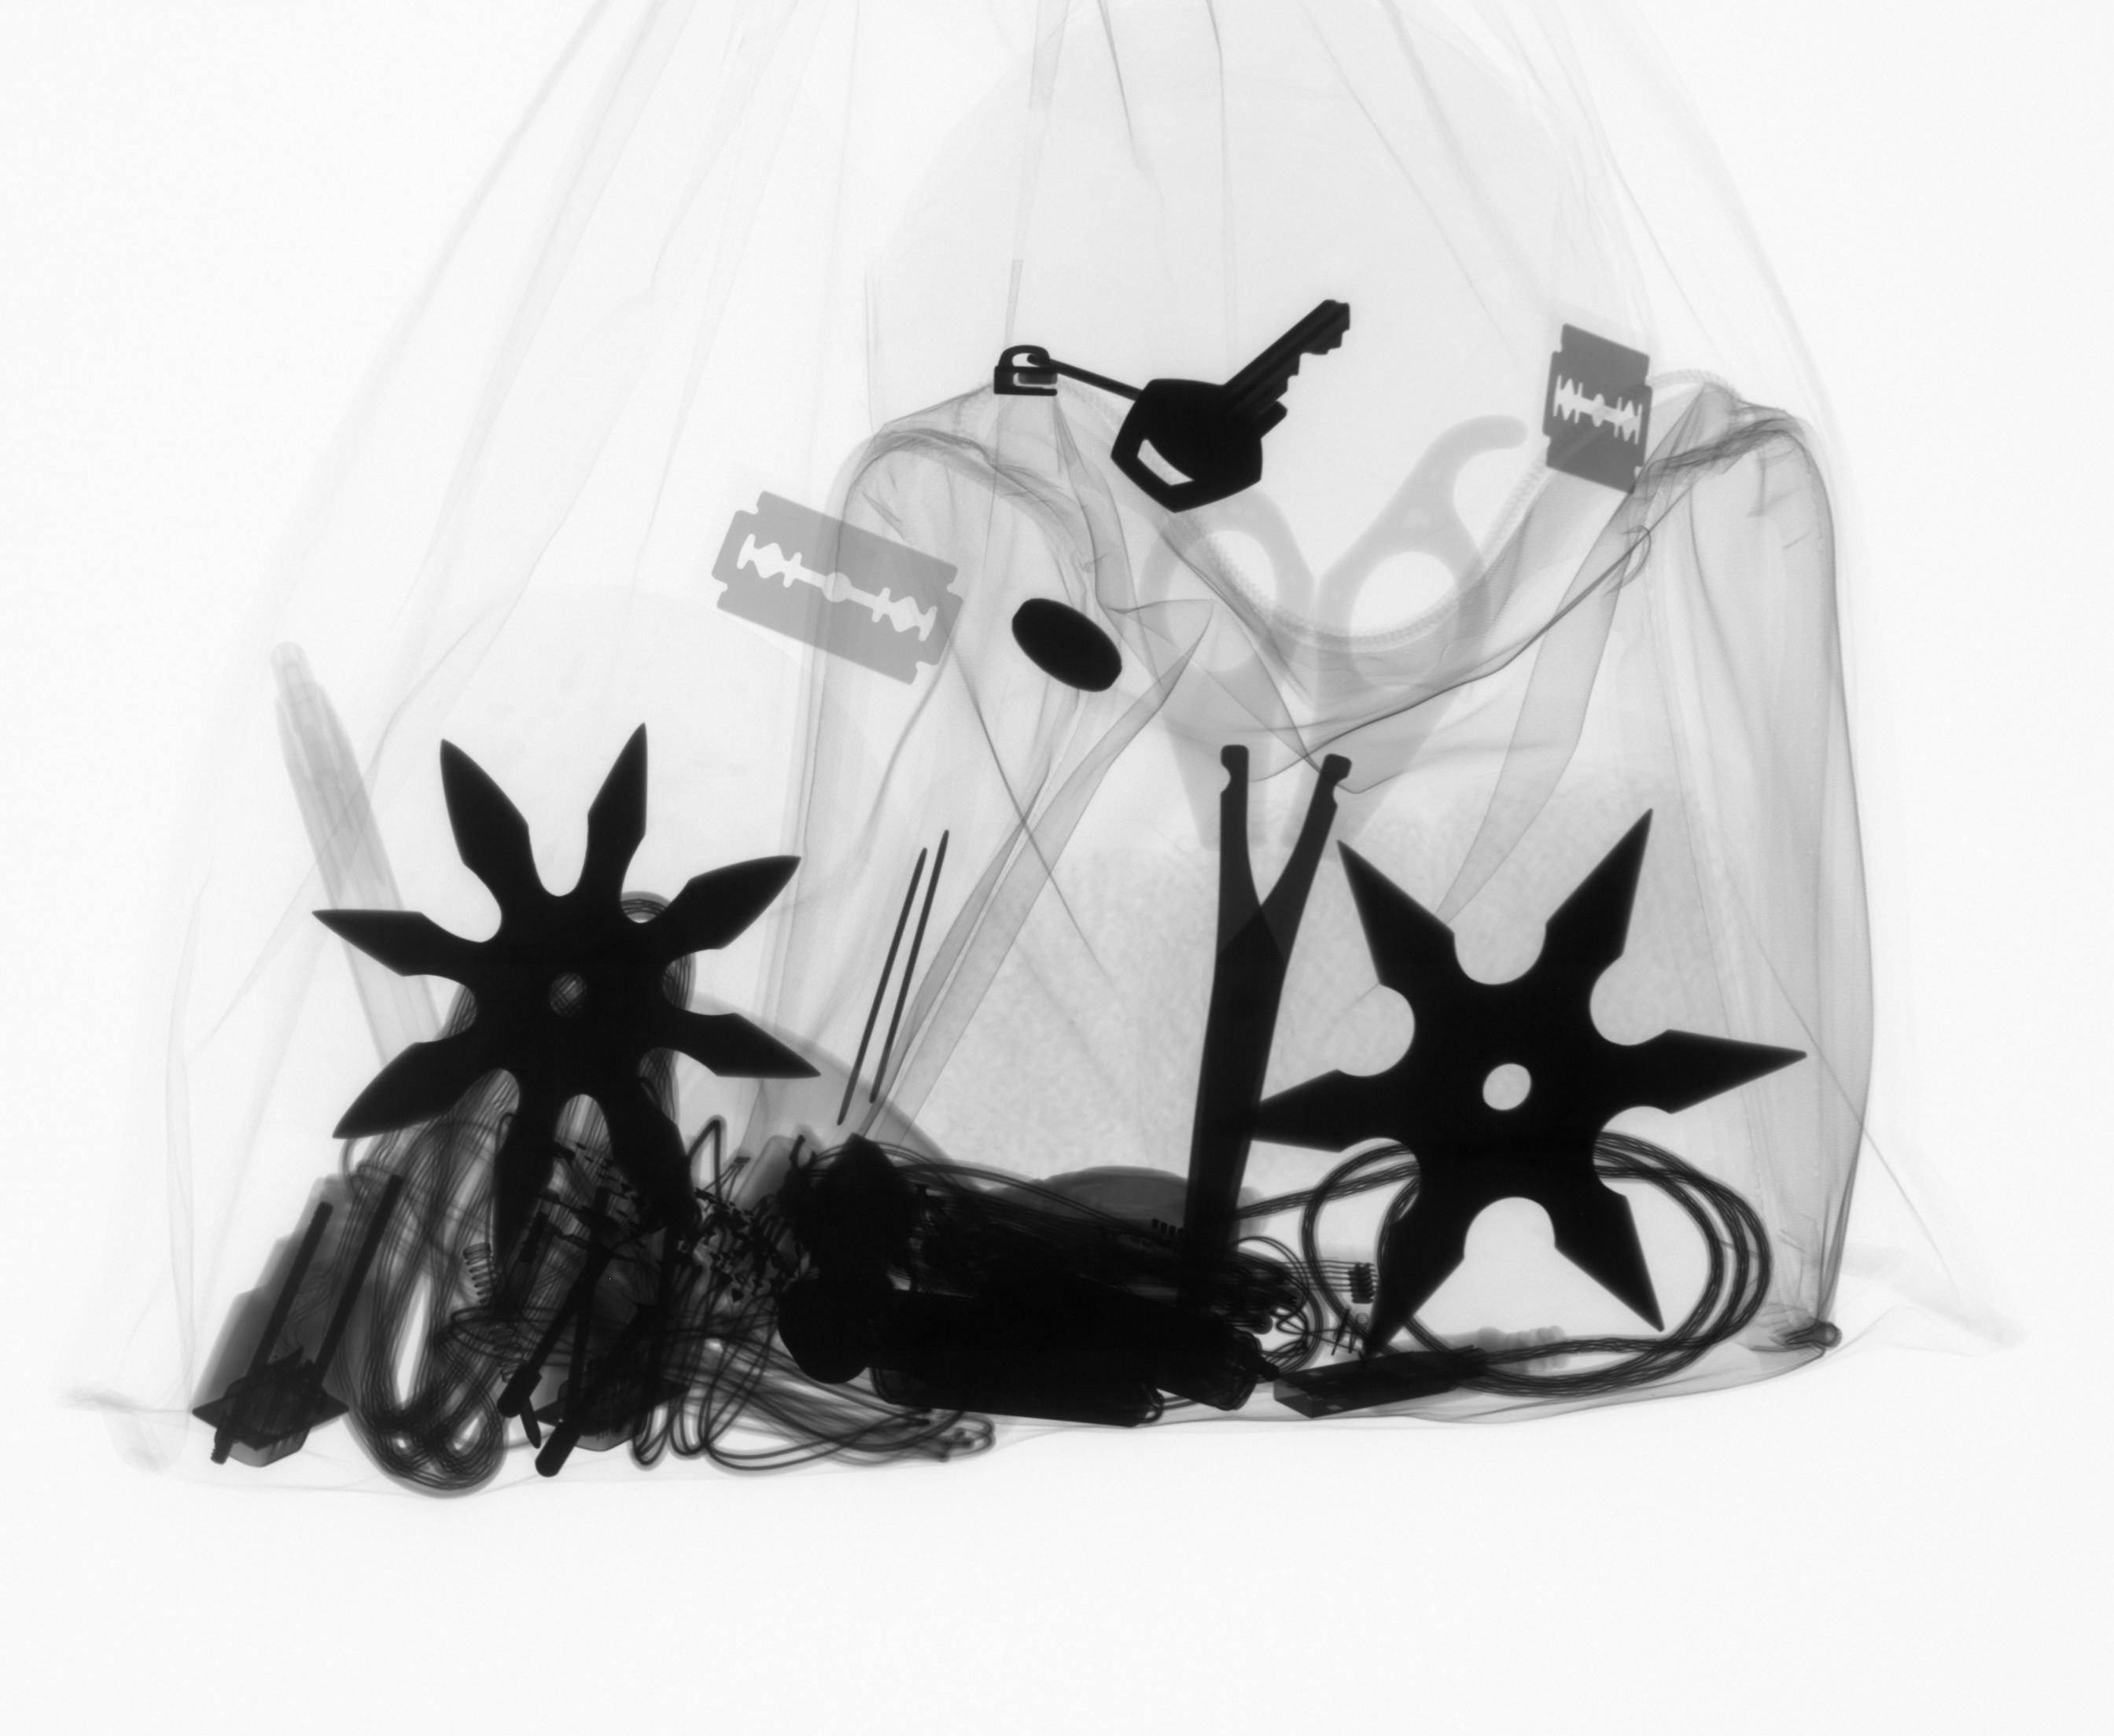RazorBlade: (702, 483, 969, 695), (1533, 316, 1668, 506)
Shuriken: (1215, 797, 1830, 1373), (300, 713, 836, 1311)
